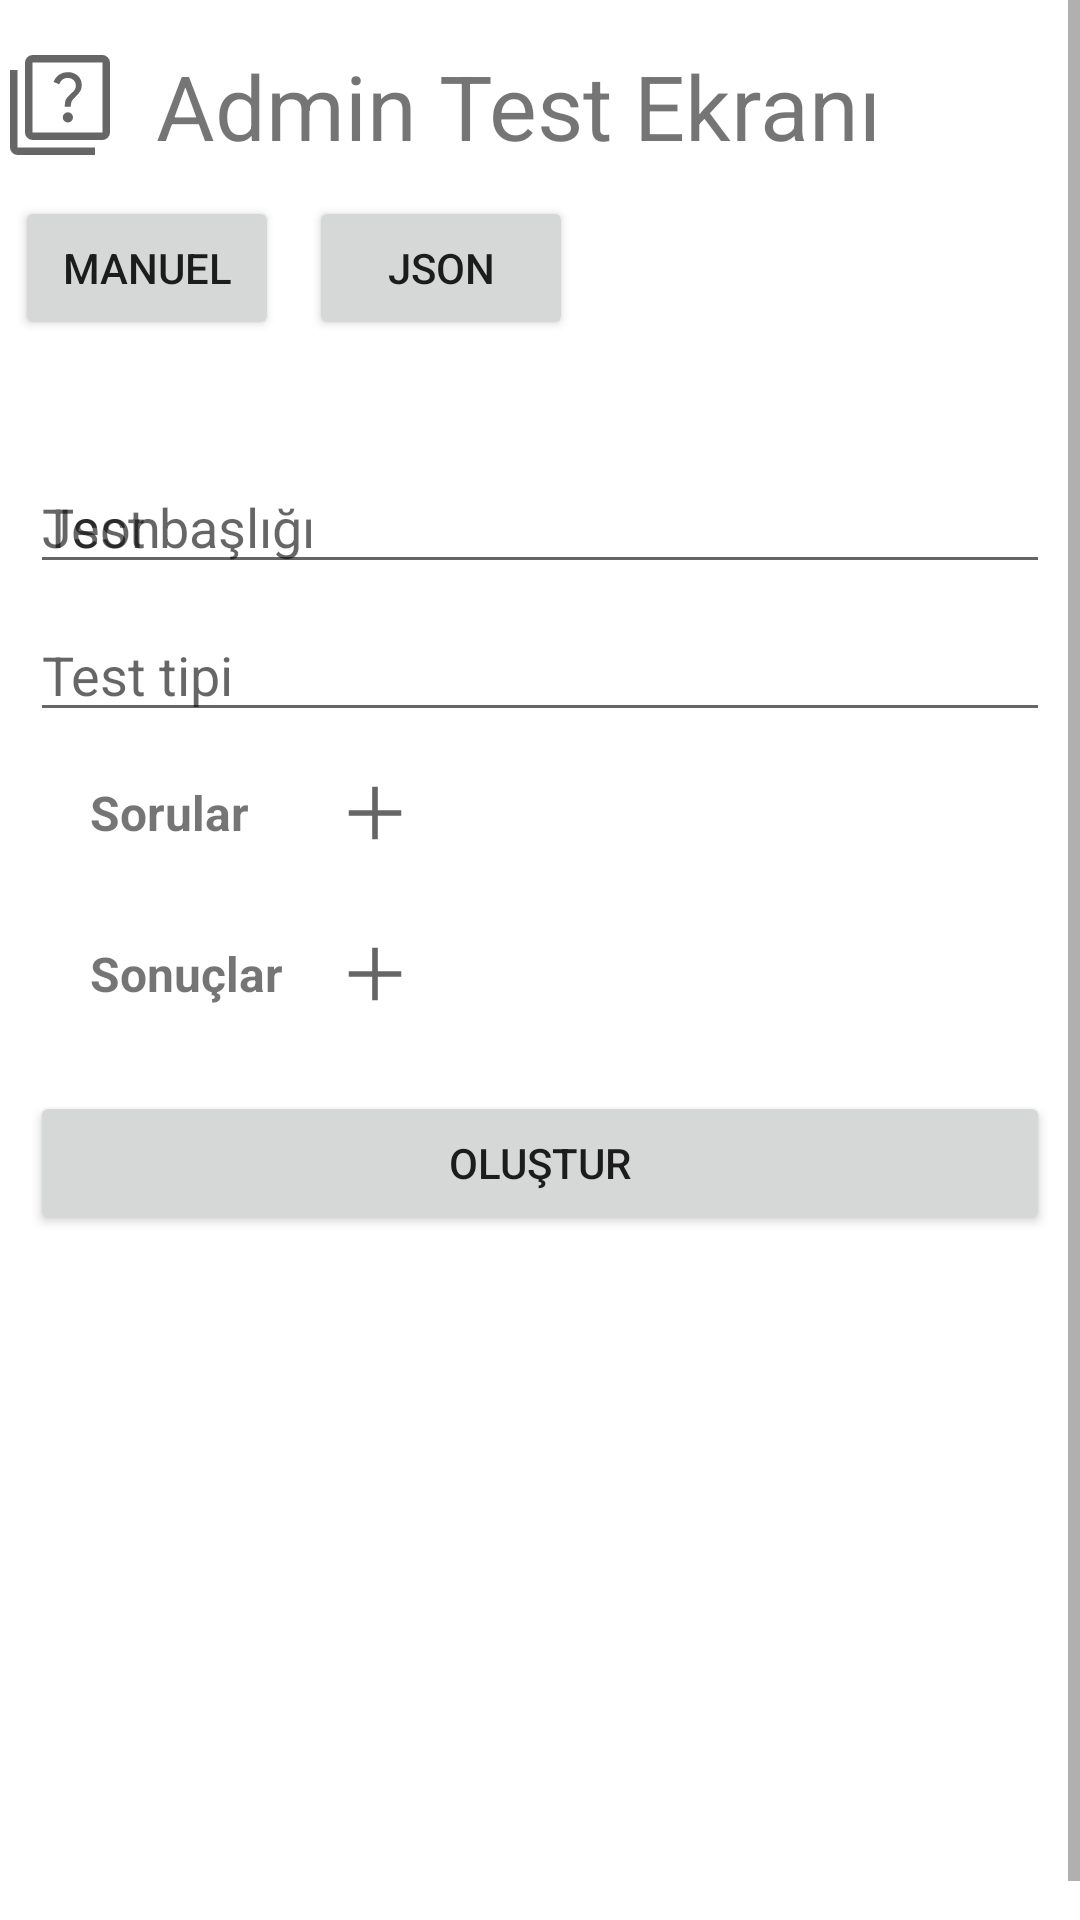

Screen size 1080x1920. Icon name, then its box in pixels as (x1, y1, x2, y2):
plus: (348, 786, 402, 840), (348, 947, 402, 1001)
